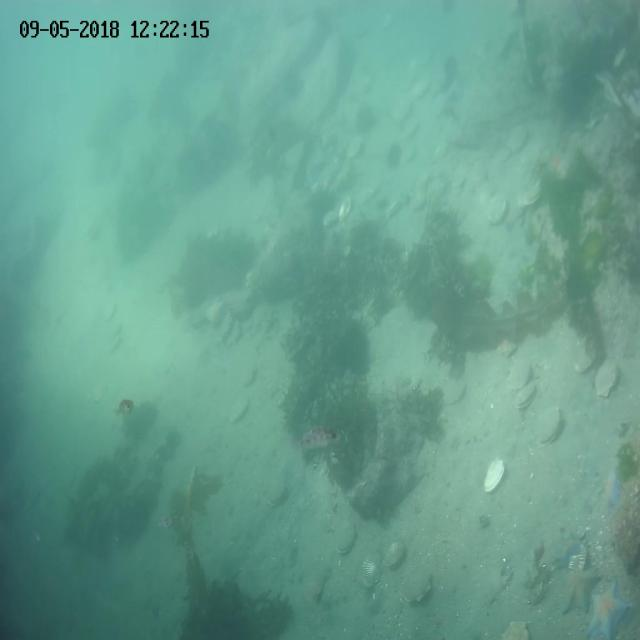scallop: (538, 404, 564, 450), (593, 360, 622, 400), (483, 457, 508, 496), (516, 177, 544, 207), (225, 396, 253, 426), (512, 379, 538, 410), (506, 364, 534, 389), (488, 198, 509, 226), (268, 480, 288, 508), (506, 130, 529, 154), (392, 98, 411, 126), (446, 383, 467, 407), (345, 136, 365, 160), (321, 206, 342, 228), (497, 338, 518, 359), (408, 192, 428, 213), (338, 196, 352, 224), (398, 144, 416, 165), (574, 356, 593, 375), (425, 180, 445, 198), (415, 172, 433, 191)
starfish: (582, 581, 630, 640), (558, 567, 604, 618), (399, 568, 435, 605), (605, 463, 625, 518), (360, 553, 383, 590), (382, 538, 406, 572), (334, 522, 358, 556), (500, 615, 532, 640)
